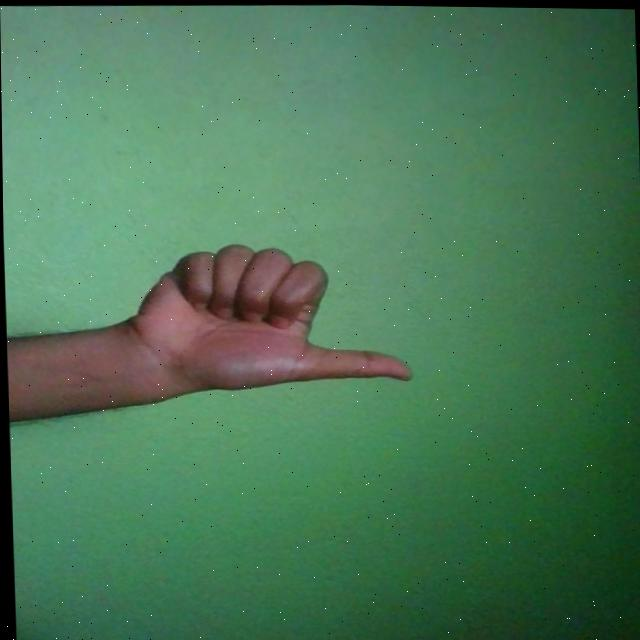Good Job: (123, 239, 410, 393)
